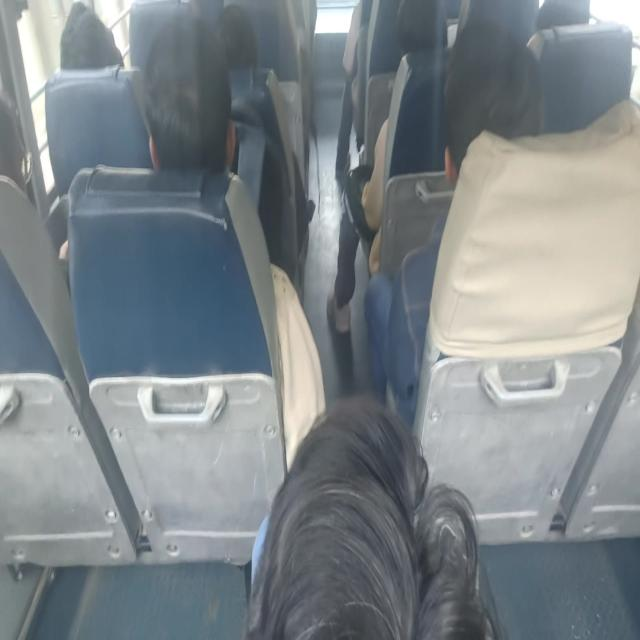person: (58, 10, 326, 468), (362, 7, 543, 420), (244, 393, 497, 638), (58, 17, 236, 260), (326, 0, 449, 333), (442, 5, 543, 183), (44, 1, 126, 197), (142, 16, 236, 173), (59, 1, 124, 70)
